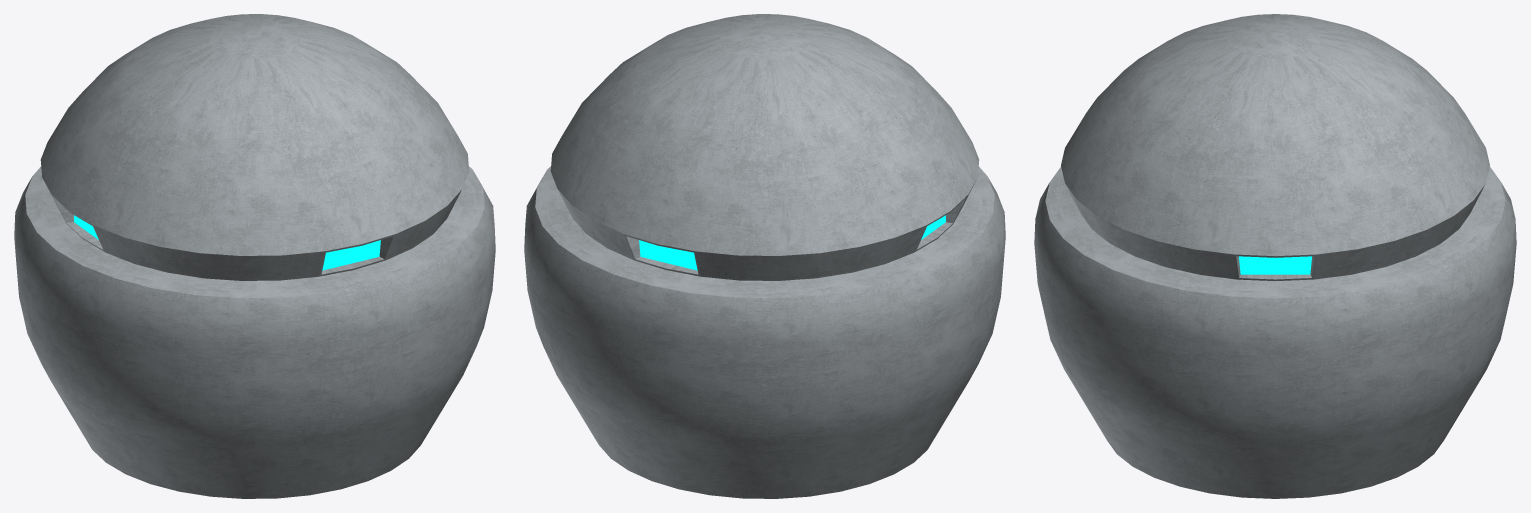
The model's file is Building_02_Main_01.gltf.
The picture shows the model from 3 angles, left to right: view 1: azimuth 30°, elevation 25°; view 2: azimuth 150°, elevation 25°; view 3: azimuth 270°, elevation 25°; orthographic projection.
Parts seen in each view (by area): view 1: Building_02_Main_01(Clone); view 2: Building_02_Main_01(Clone); view 3: Building_02_Main_01(Clone).
Part boxes in pixels (left/top/right/bottom): Building_02_Main_01(Clone): left=14, top=14, right=495, bottom=498; Building_02_Main_01(Clone): left=524, top=14, right=1005, bottom=498; Building_02_Main_01(Clone): left=1034, top=14, right=1516, bottom=498.
Size of the model in its own units: 3.29 by 2.95 by 3.29.
Materials: 2 (2 with a texture image).
